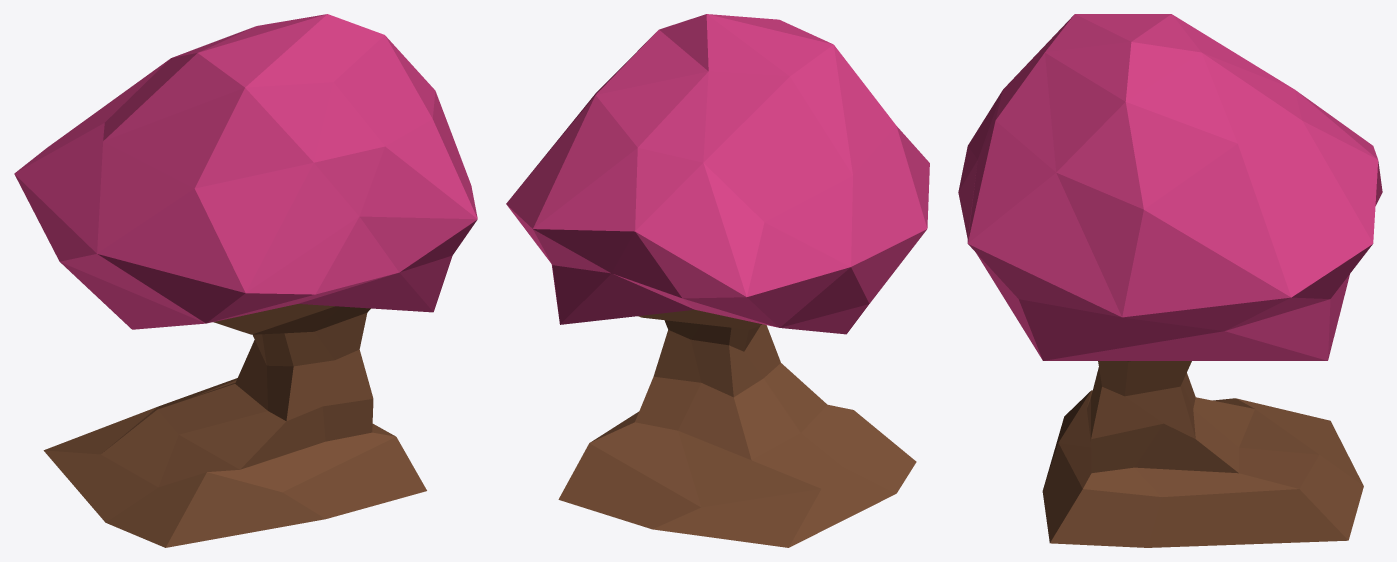
Rendered from Tree_25_Pink.fbx.
3 views of the same model, side by side, from view 1: azimuth 30°, elevation 25°; view 2: azimuth 150°, elevation 25°; view 3: azimuth 270°, elevation 25° (orthographic). The views are drawn at different scales.
Visible parts, largest first — view 1: Tree_25_Pink_Part_1, Tree_25_Pink_Part_3, Tree_25_Pink_Part_2; view 2: Tree_25_Pink_Part_1, Tree_25_Pink_Part_3, Tree_25_Pink_Part_2; view 3: Tree_25_Pink_Part_1, Tree_25_Pink_Part_3, Tree_25_Pink_Part_2.
Part boxes in pixels (left/top/right/bottom): Tree_25_Pink_Part_1: left=14, top=14, right=477, bottom=329; Tree_25_Pink_Part_3: left=43, top=378, right=426, bottom=547; Tree_25_Pink_Part_2: left=158, top=304, right=373, bottom=469; Tree_25_Pink_Part_1: left=506, top=14, right=929, bottom=334; Tree_25_Pink_Part_3: left=558, top=405, right=916, bottom=547; Tree_25_Pink_Part_2: left=635, top=309, right=827, bottom=460; Tree_25_Pink_Part_1: left=958, top=14, right=1382, bottom=360; Tree_25_Pink_Part_3: left=1042, top=390, right=1363, bottom=547; Tree_25_Pink_Part_2: left=1087, top=361, right=1254, bottom=473.
Bounding box in the file's own units: 666 × 786 × 641.
